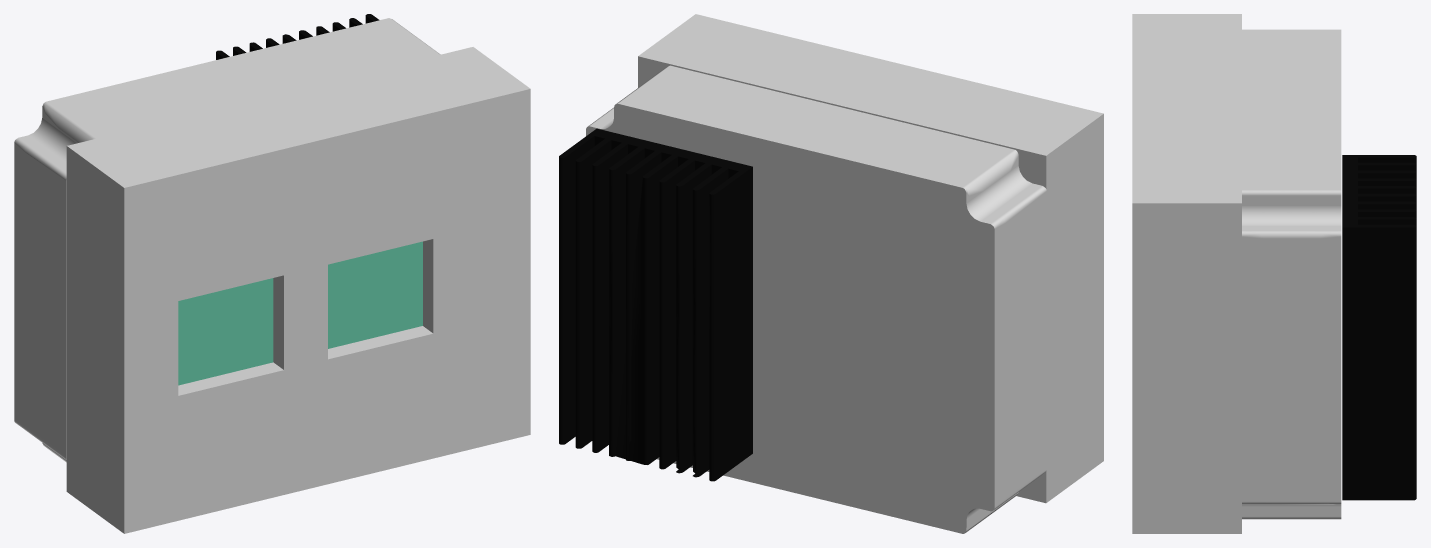
The model's file is baslerBlaze101.dae.
3 renders of one model, left to right at view 1: azimuth 30°, elevation 25°; view 2: azimuth 150°, elevation 25°; view 3: azimuth 270°, elevation 25°, orthographic. The views are drawn at different scales.
Parts seen in each view (by area): view 1: Brep (×3), Extrusion (×2); view 2: Brep (×3); view 3: Brep (×3).
Boxes of the visible parts, bbox=[...] form: Brep (×3): bbox=[14, 14, 530, 533]; Extrusion (×2): bbox=[178, 241, 422, 385]; Brep (×3): bbox=[559, 14, 1103, 533]; Brep (×3): bbox=[1132, 14, 1416, 533].
Bounding box in the file's own units: 0.0123 × 0.0078 × 0.01.
